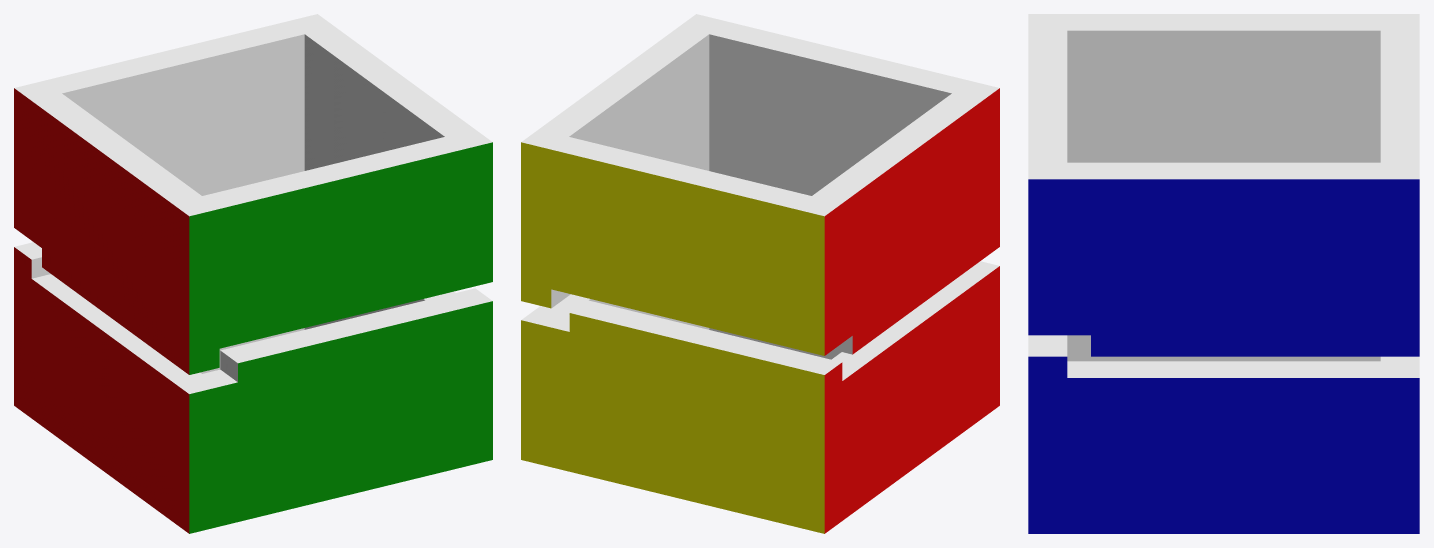
The model's file is caixa.obj.
3 renders of one model, left to right at view 1: azimuth 30°, elevation 25°; view 2: azimuth 150°, elevation 25°; view 3: azimuth 270°, elevation 25°, orthographic. The views are drawn at different scales.
Visible parts, largest first — view 1: Object.2, Object.1; view 2: Object.2, Object.1; view 3: Object.2, Object.1.
Boxes of the visible parts, x1=… form: Object.2: x1=14, y1=14, x2=492, y2=374; Object.1: x1=14, y1=242, x2=492, y2=533; Object.2: x1=521, y1=14, x2=999, y2=355; Object.1: x1=521, y1=261, x2=999, y2=533; Object.2: x1=1028, y1=14, x2=1419, y2=356; Object.1: x1=1028, y1=335, x2=1419, y2=533.
Size of the model in its own units: 152 by 152 by 152.
